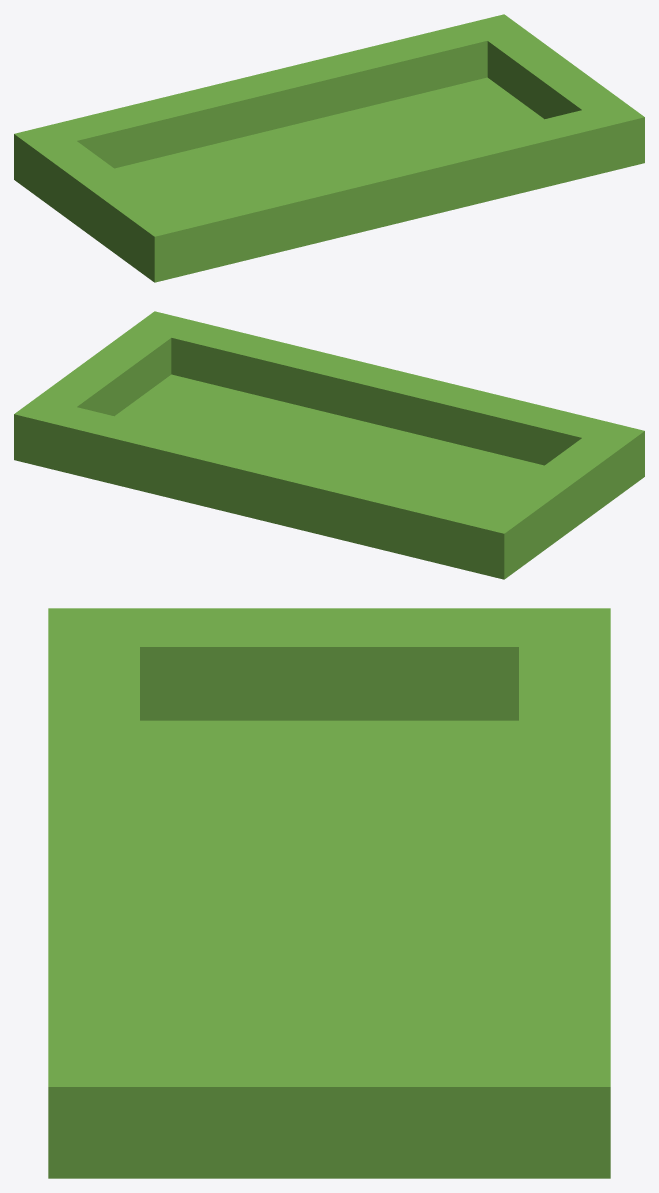
File: KingFisher_ConcreteSarcophogus_Joaquin_Flores-Vaccari.glb
3 renders of one model, top to bottom at view 1: azimuth 30°, elevation 25°; view 2: azimuth 150°, elevation 25°; view 3: azimuth 270°, elevation 25°, orthographic. The views are drawn at different scales.
Parts seen in each view (by area): view 1: Concrete_Sarcophogus; view 2: Concrete_Sarcophogus; view 3: Concrete_Sarcophogus.
Boxes of the visible parts, x1,y1,x2,y2 form: Concrete_Sarcophogus: [14, 14, 644, 282]; Concrete_Sarcophogus: [14, 311, 644, 579]; Concrete_Sarcophogus: [48, 608, 610, 1178].
Bounding box in the file's own units: 27.87 × 2.49 × 13.85.
